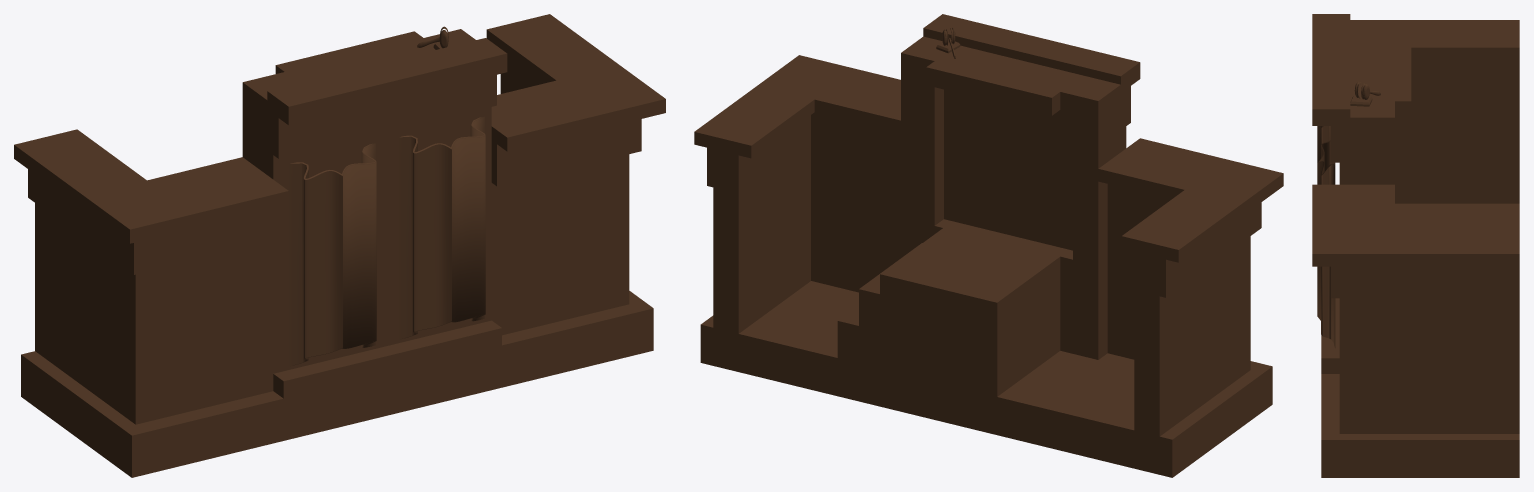
The model's file is judge-bench.glb.
3 views of the same model, side by side, from view 1: azimuth 30°, elevation 25°; view 2: azimuth 150°, elevation 25°; view 3: azimuth 270°, elevation 25° (orthographic). The views are drawn at different scales.
Visible parts, largest first — view 1: judge-bench; view 2: judge-bench; view 3: judge-bench.
Boxes of the visible parts, x1,y1,x2,y2 form: judge-bench: (14,14,665,477); judge-bench: (694,14,1283,477); judge-bench: (1312,14,1519,477).
Size of the model in its own units: 2.4 by 1.5 by 0.9.
